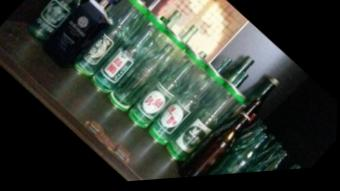glass: (105, 33, 206, 131), (142, 73, 245, 166), (93, 24, 187, 125), (59, 0, 154, 91), (31, 0, 127, 66), (186, 117, 286, 174), (29, 0, 89, 43)
